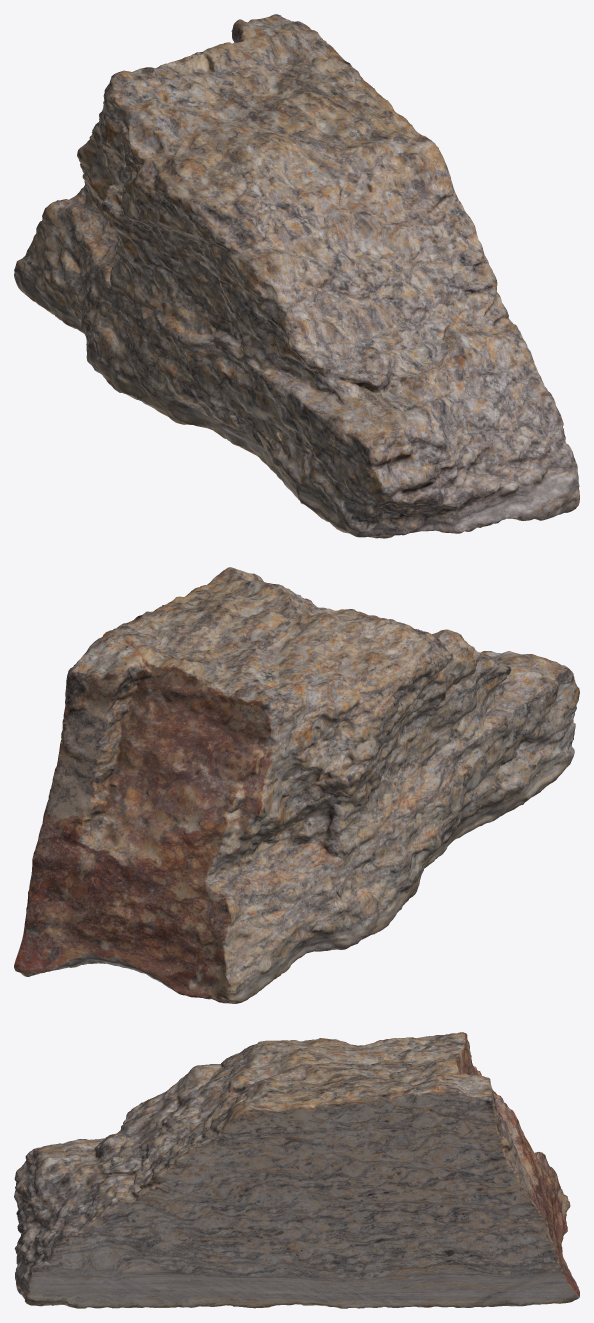
File: Main.glb
3 renders of one model, top to bottom at view 1: azimuth 30°, elevation 25°; view 2: azimuth 150°, elevation 25°; view 3: azimuth 270°, elevation 25°, orthographic. The views are drawn at different scales.
Parts seen in each view (by area): view 1: Granite; view 2: Granite; view 3: Granite.
Boxes of the visible parts, x1,y1,x2,y2 form: Granite: (14, 14, 579, 538); Granite: (14, 567, 579, 1003); Granite: (14, 1032, 579, 1308).
Size of the model in its own units: 0.0521 by 0.0597 by 0.1363.
Materials: 1 (1 with a texture image).
